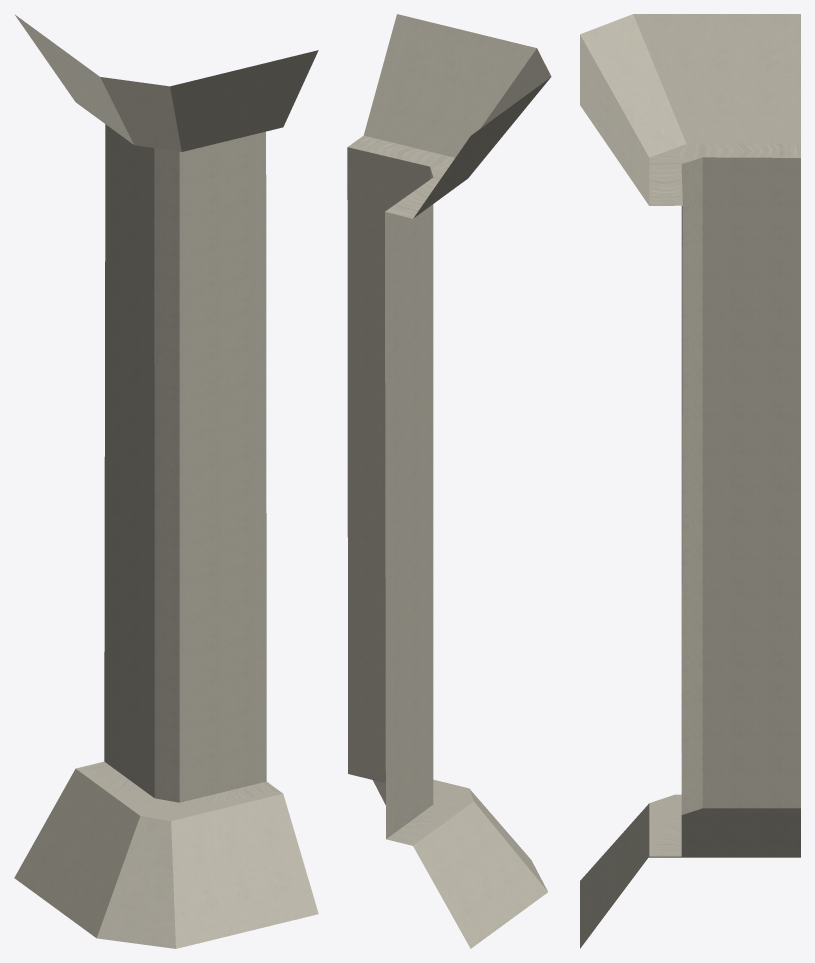
The model's file is WallpolySurface66.fbx.
3 renders of one model, left to right at view 1: azimuth 30°, elevation 25°; view 2: azimuth 150°, elevation 25°; view 3: azimuth 270°, elevation 25°, orthographic. The views are drawn at different scales.
Visible parts, largest first — view 1: polySurface66; view 2: polySurface66; view 3: polySurface66.
Part boxes in pixels (x1,y1,x2,y2): polySurface66: (14,14,318,948); polySurface66: (347,14,551,948); polySurface66: (580,14,800,948).
Size of the model in its own units: 30.53 by 132 by 31.24.
